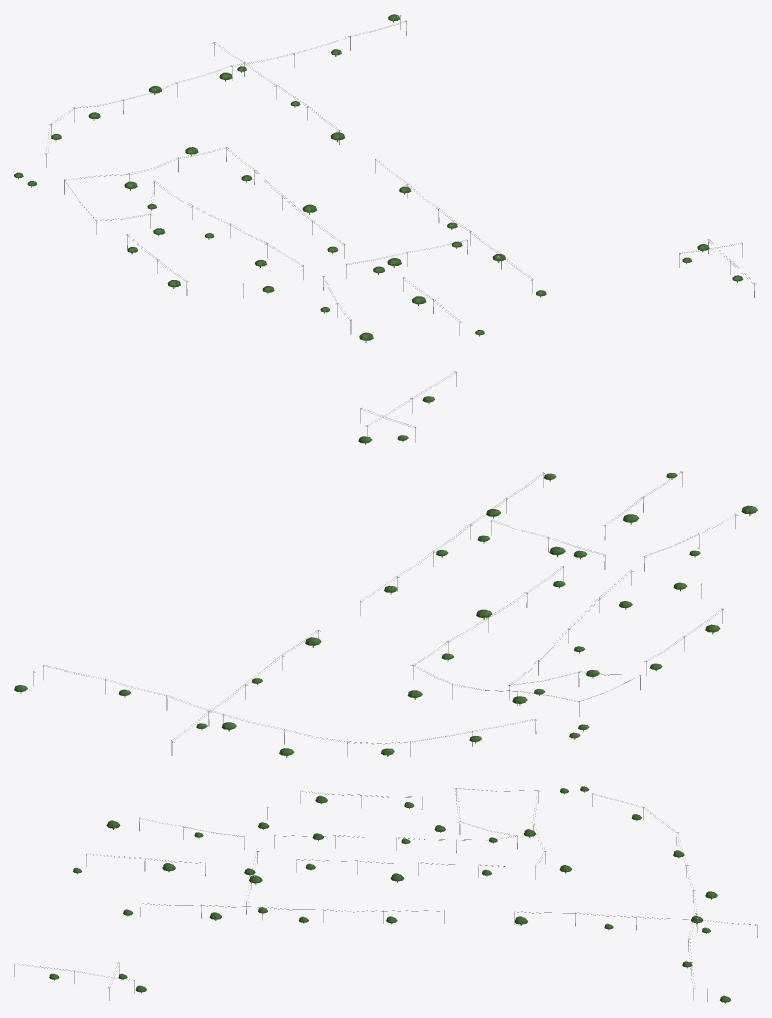
Rendered from n1_poles_6.glb.
3 renders of one model, top to bottom at view 1: azimuth 30°, elevation 25°; view 2: azimuth 150°, elevation 25°; view 3: azimuth 270°, elevation 25°, orthographic. The views are drawn at different scales.
Visible parts, largest first — view 1: n1_poles_6_lod0; view 2: n1_poles_6_lod0; view 3: n1_poles_6_lod0.
Boxes of the visible parts, box(x1,y1,x2,y2) form: n1_poles_6_lod0: box(14, 14, 757, 342); n1_poles_6_lod0: box(14, 371, 757, 757); n1_poles_6_lod0: box(14, 786, 757, 1003).
Size of what is drawn, in the model's own units: 310 by 23.75 by 465.
